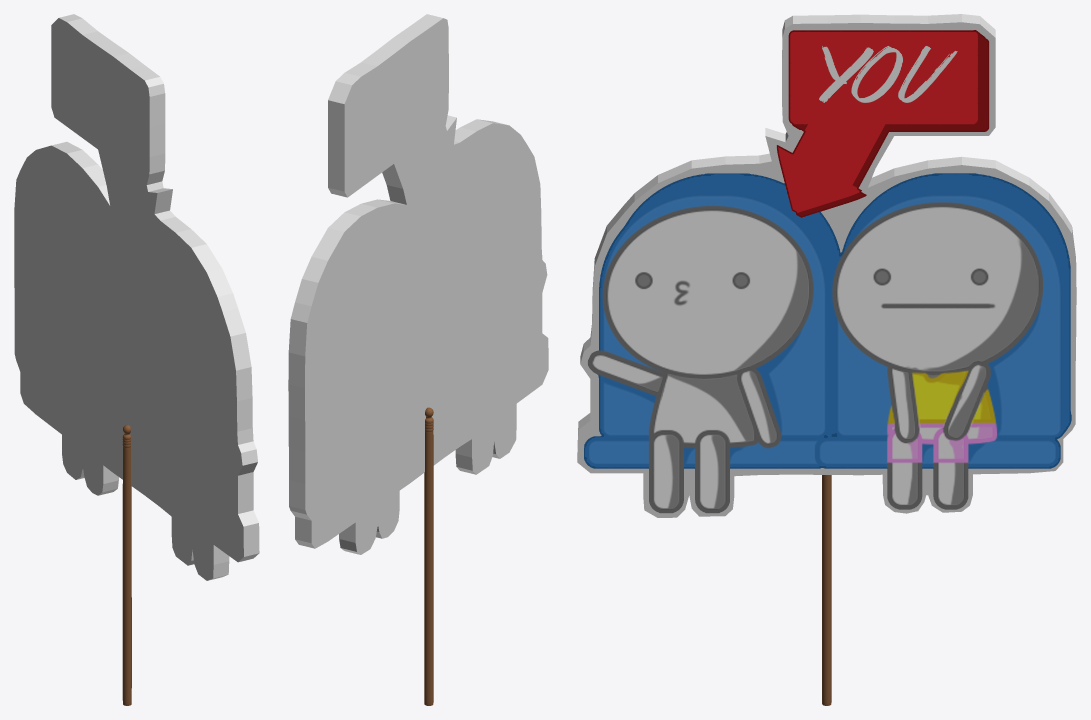
Rendered from scn5_Asiento4.fbx.
3 renders of one model, left to right at view 1: azimuth 30°, elevation 25°; view 2: azimuth 150°, elevation 25°; view 3: azimuth 270°, elevation 25°, orthographic. The views are drawn at different scales.
Parts seen in each view (by area): view 1: pCube20; view 2: pCube20; view 3: pCube20.
Part boxes in pixels (bbox=[...]): pCube20: bbox=[14, 14, 259, 705]; pCube20: bbox=[288, 14, 548, 705]; pCube20: bbox=[577, 14, 1076, 705].
Size of the model in its own units: 0.8666 by 24.42 by 15.98.
